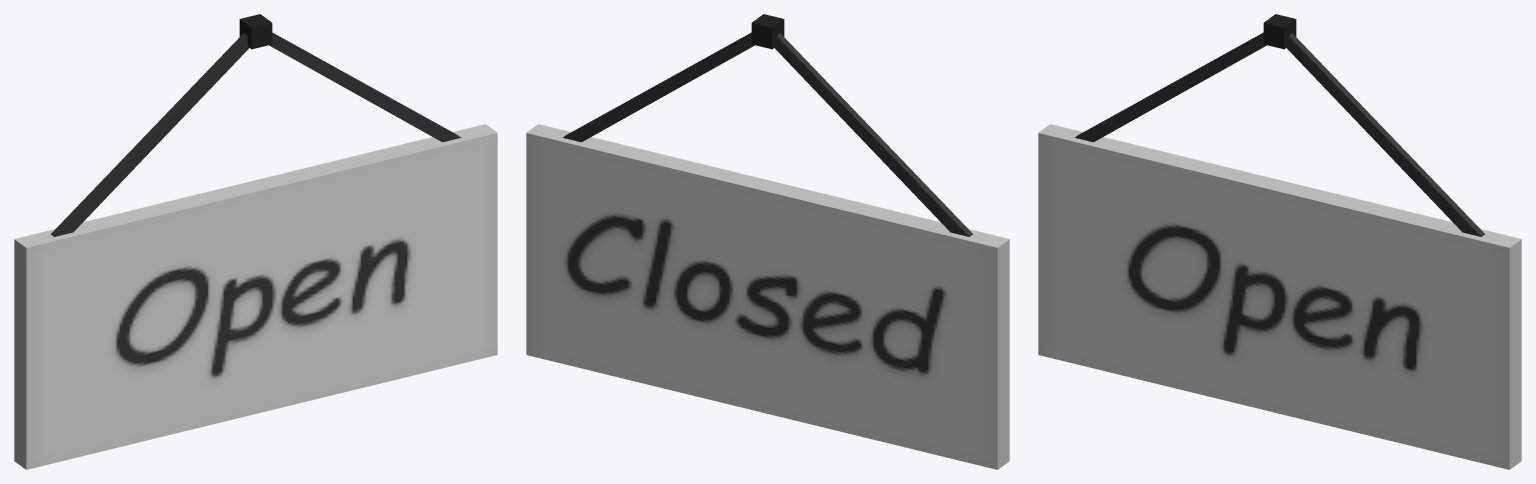
Rendered from sign_1.fbx.
The picture shows the model from 3 angles, left to right: view 1: azimuth 30°, elevation 25°; view 2: azimuth 150°, elevation 25°; view 3: azimuth 330°, elevation 25°; orthographic projection.
Parts seen in each view (by area): view 1: sign_1; view 2: sign_1; view 3: sign_1.
Boxes of the visible parts, x1=… form: sign_1: x1=14, y1=14, x2=497, y2=469; sign_1: x1=526, y1=14, x2=1009, y2=469; sign_1: x1=1038, y1=14, x2=1521, y2=469.
Size of the model in its own units: 37.62 by 29.51 by 1.67.
